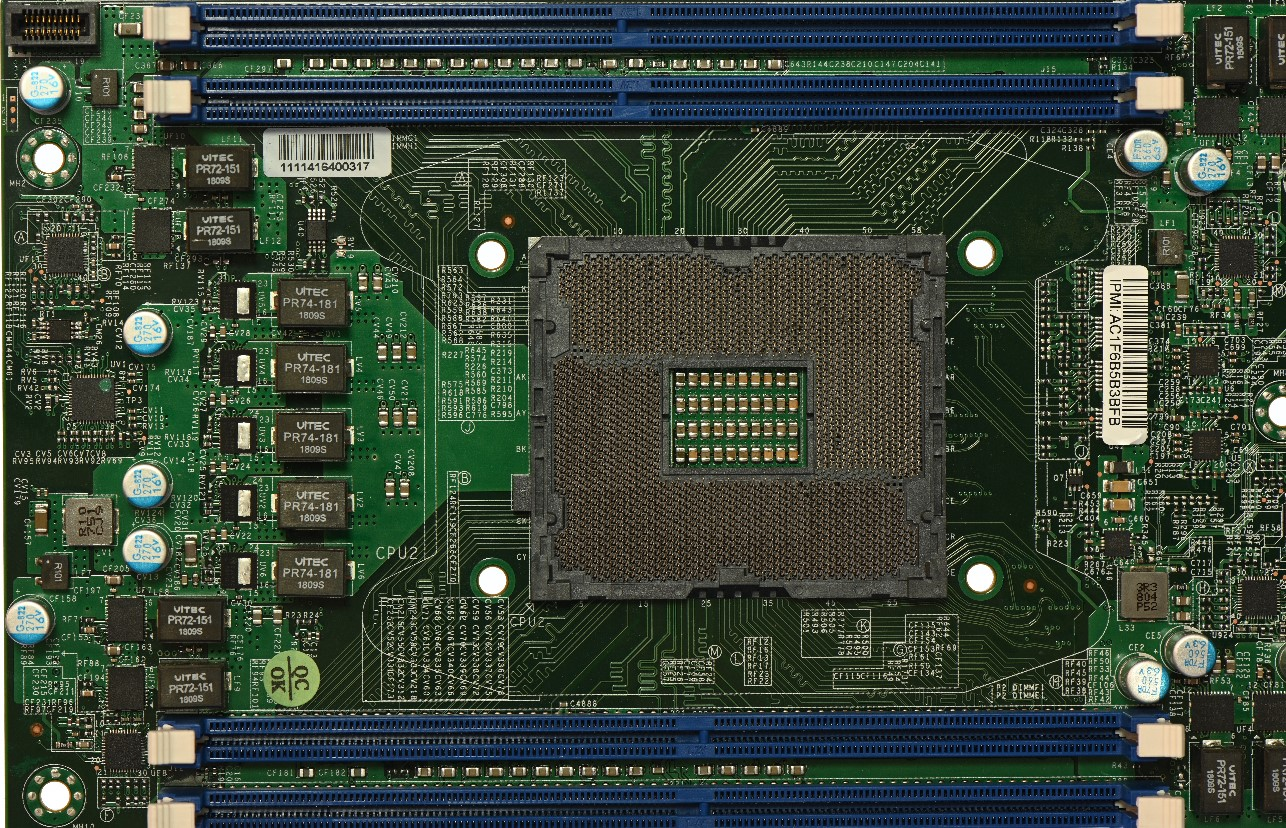Induktor: (61, 494, 116, 545), (1119, 566, 1169, 620)
